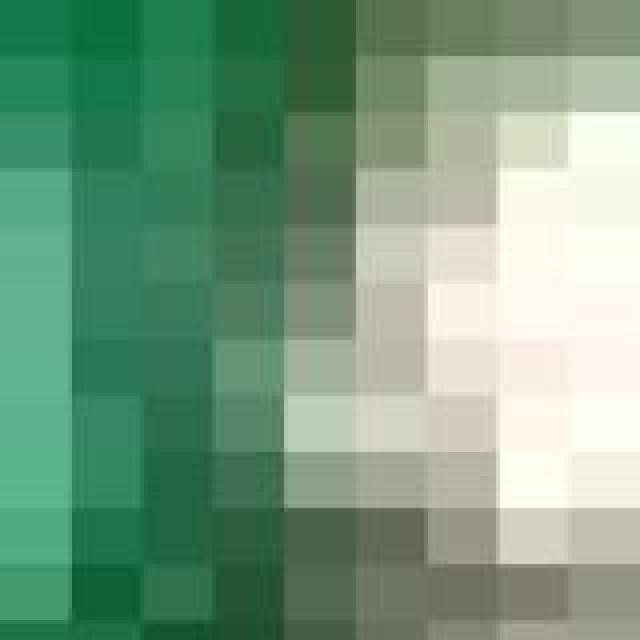transistor: (200, 324, 640, 640)
